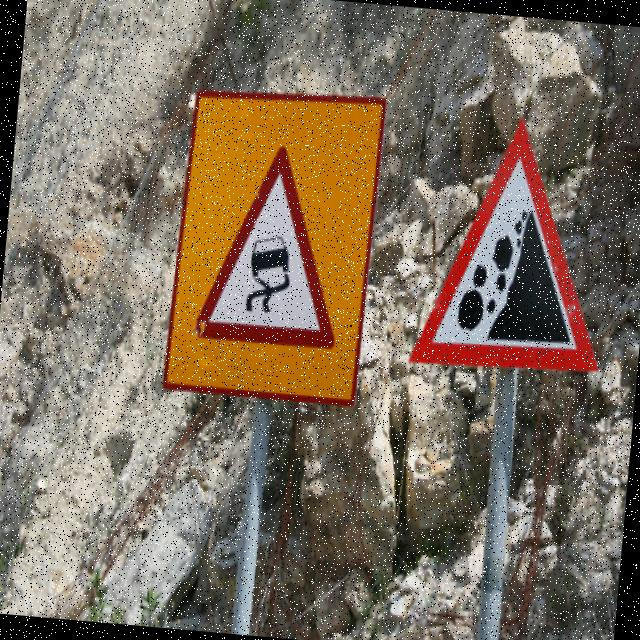road_slippery: (187, 132, 354, 351)
